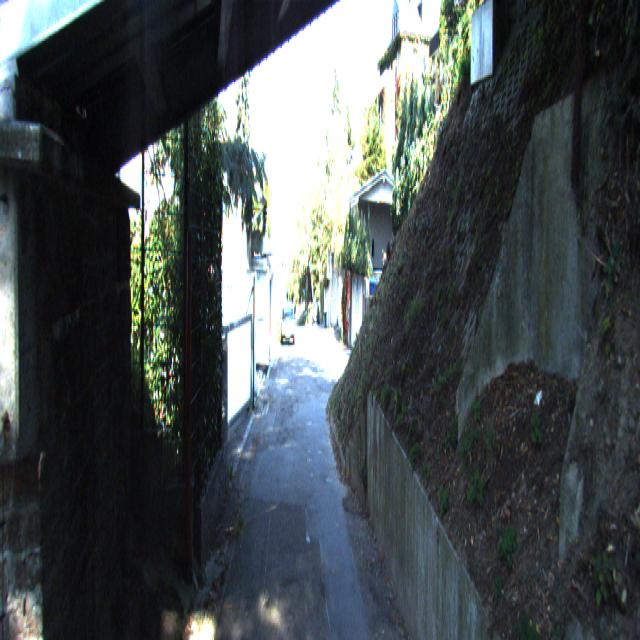Car: (281, 306, 296, 348)
